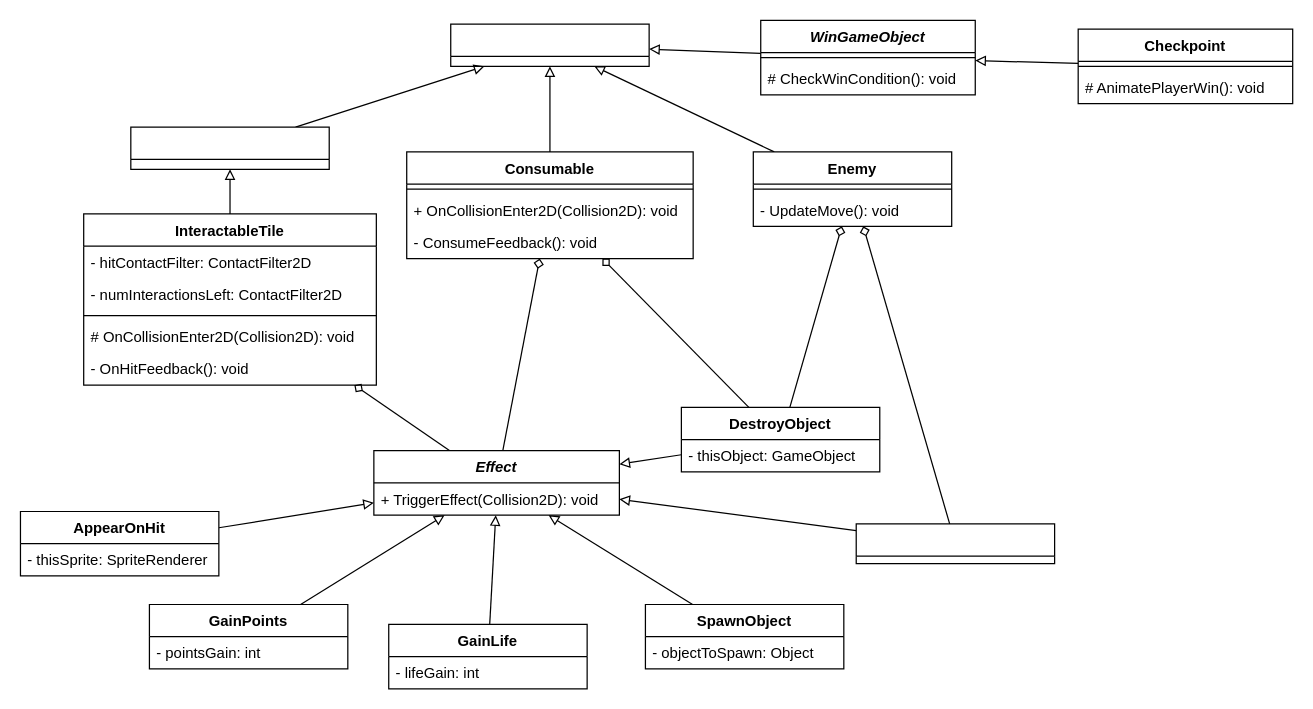
Image size: 1313x709. Some labels were removed from this diagram. Each missing label, with the centre of its shape:
HurtPlayer: the point at 955,543
MapObject: the point at 549,44
Tile: the point at 229,147
